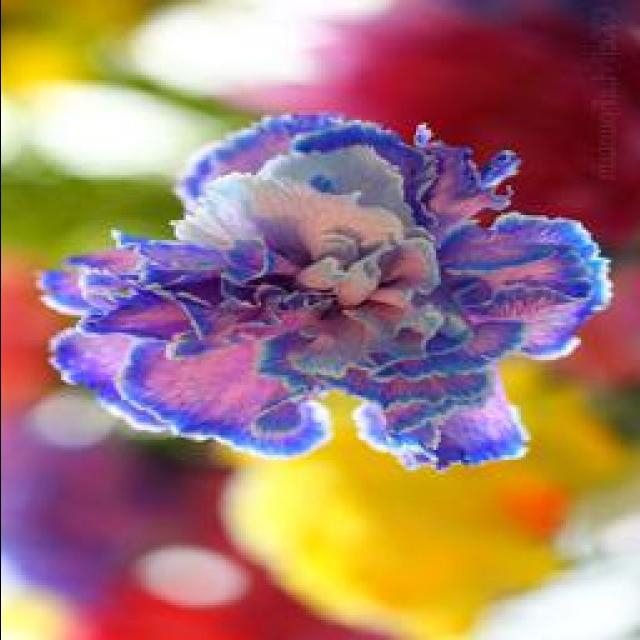carnation: (50, 86, 568, 516)
